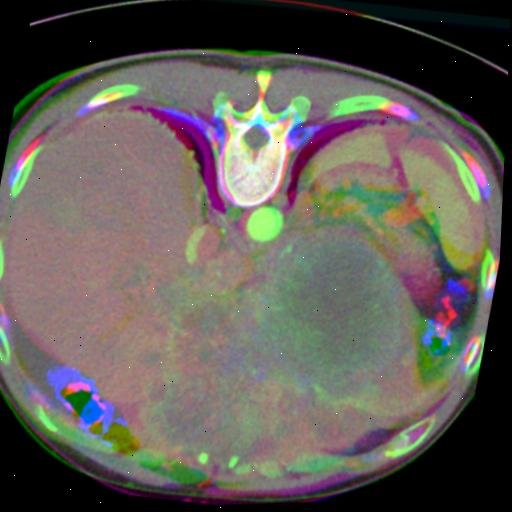Tumor: (158, 300, 297, 454)
